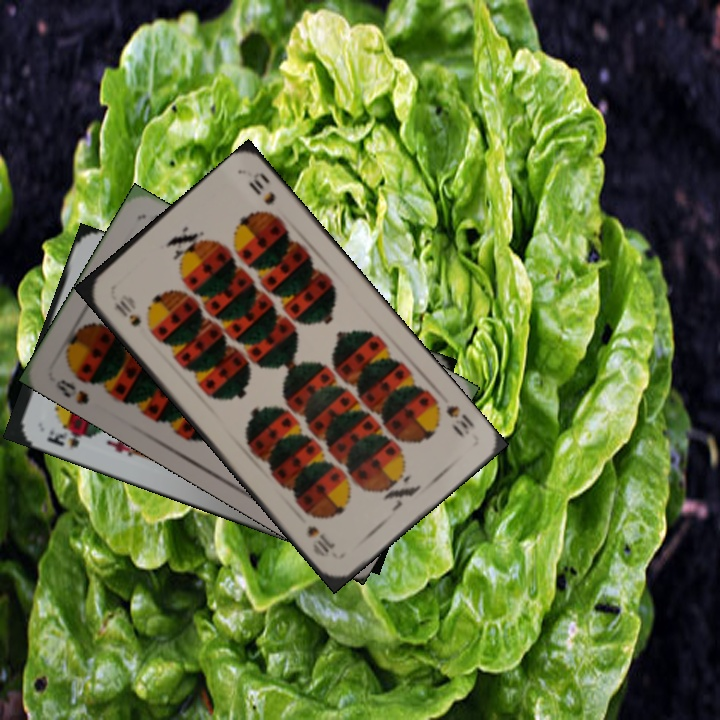S10: (441, 401, 477, 441), (110, 296, 144, 330)
S8: (51, 375, 92, 407)
SK: (42, 422, 92, 451)
